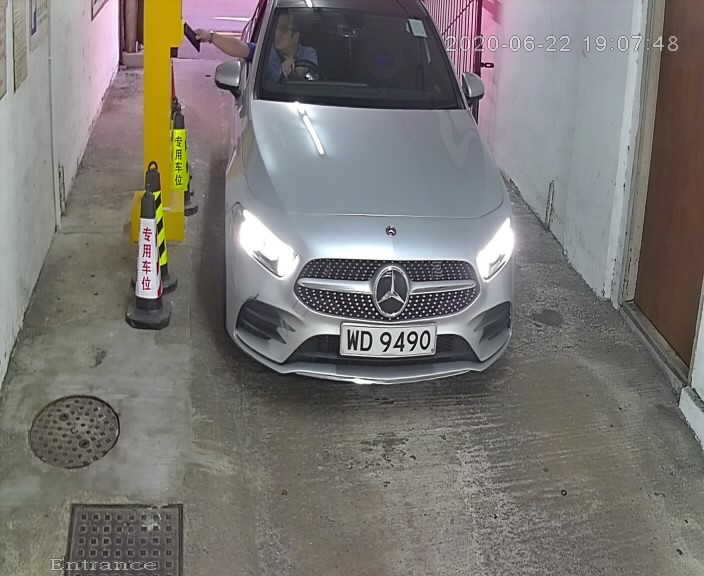privatecar: (207, 1, 546, 416)
